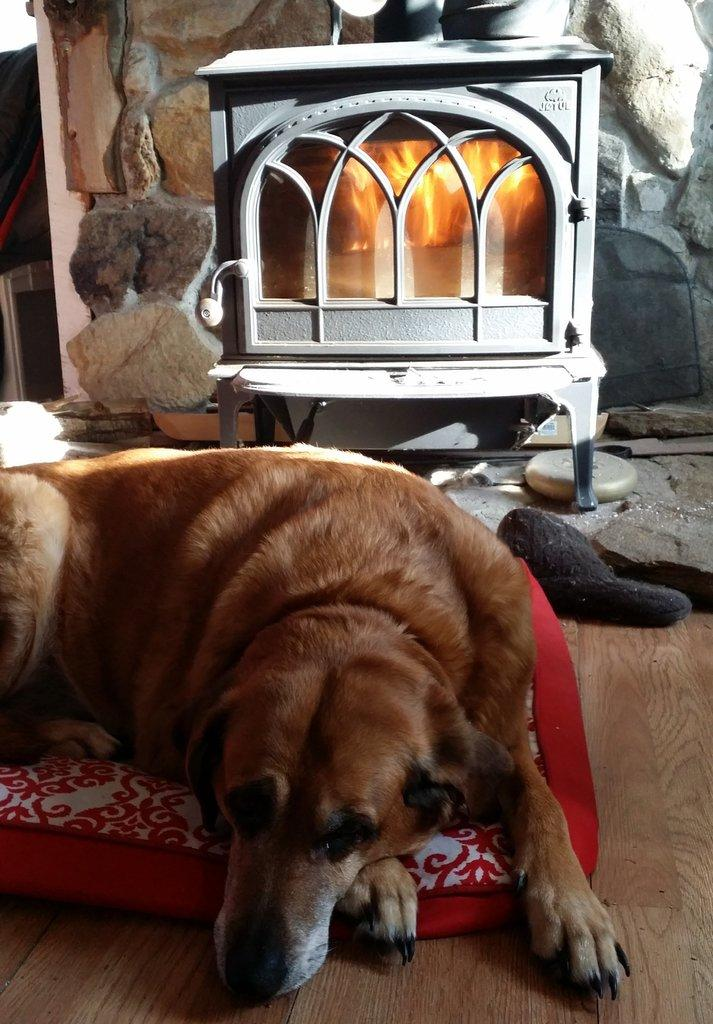Fire: (299, 132, 564, 240)
